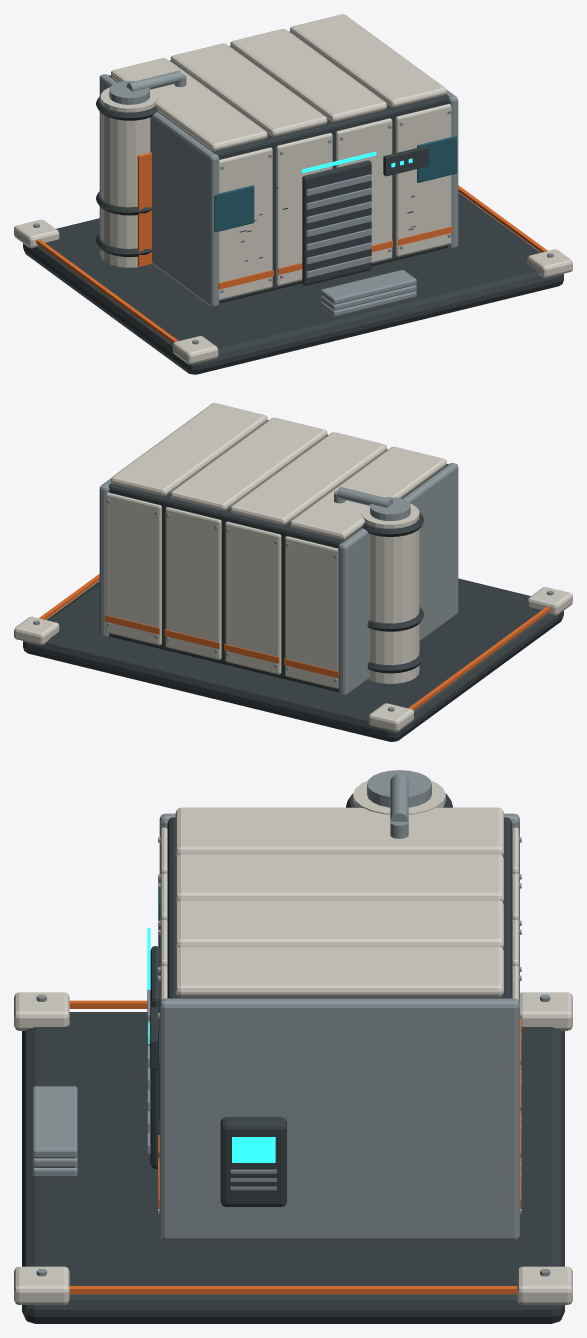
File: SM_CommunicationSystemsPlant_Body.fbx
3 views of the same model, one above another, from view 1: azimuth 30°, elevation 25°; view 2: azimuth 150°, elevation 25°; view 3: azimuth 270°, elevation 25° (orthographic). The views are drawn at different scales.
Visible parts, largest first — view 1: SM_CommunicationSystemsPlant_Body; view 2: SM_CommunicationSystemsPlant_Body; view 3: SM_CommunicationSystemsPlant_Body.
Part boxes in pixels (x1,y1,x2,y2): SM_CommunicationSystemsPlant_Body: [14, 14, 572, 374]; SM_CommunicationSystemsPlant_Body: [14, 403, 572, 741]; SM_CommunicationSystemsPlant_Body: [14, 770, 572, 1323].
Size of the model in its own units: 532 by 422 by 257.
